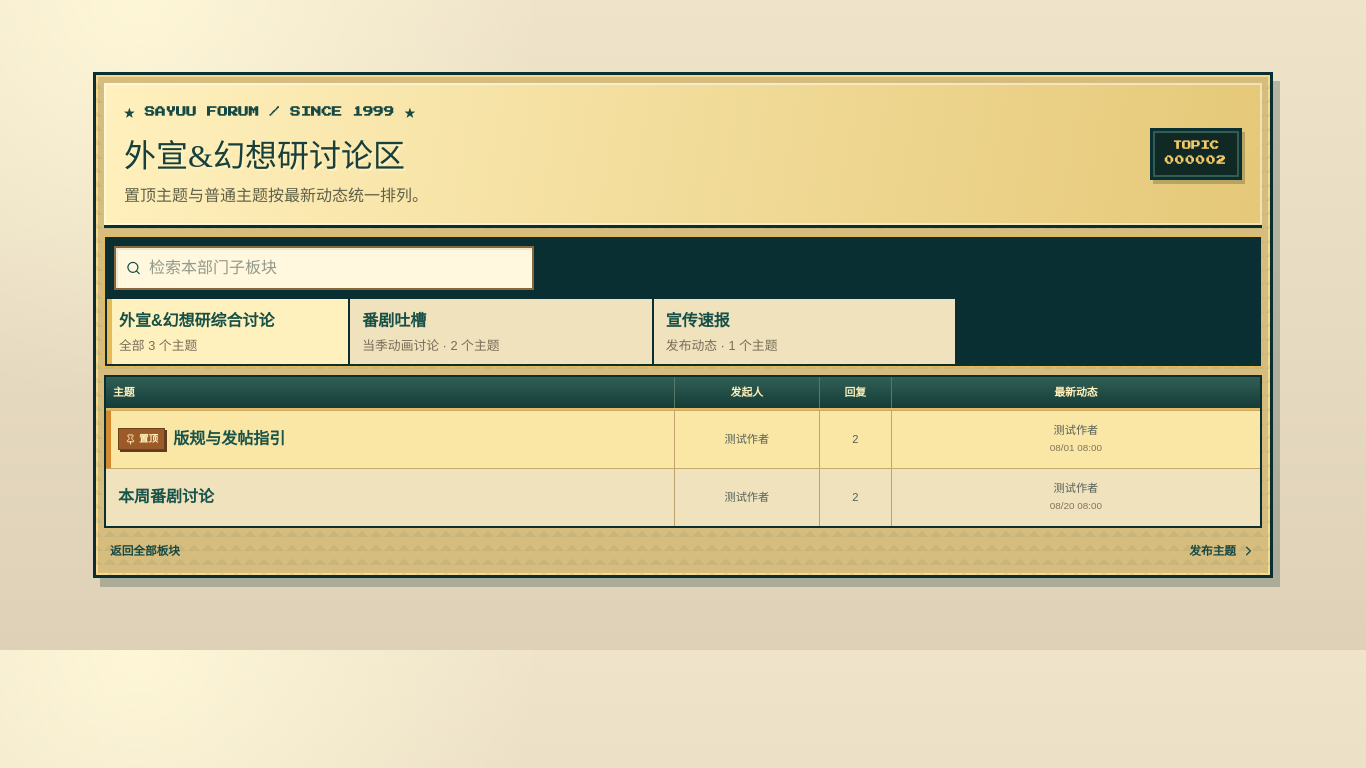
public forum layout › mixes pinned and ordinary topics and filters a department by child board
expect the link "版规与发帖指引" is shown: met, box left=173, top=427, right=285, bottom=451
expect the link "本周番剧讨论" is shown: met, box left=118, top=485, right=214, bottom=509
Type "番剧" into the field with placeholder "检索本部门子板块". click: (336, 268)
box: left=149, top=256, right=522, bottom=280
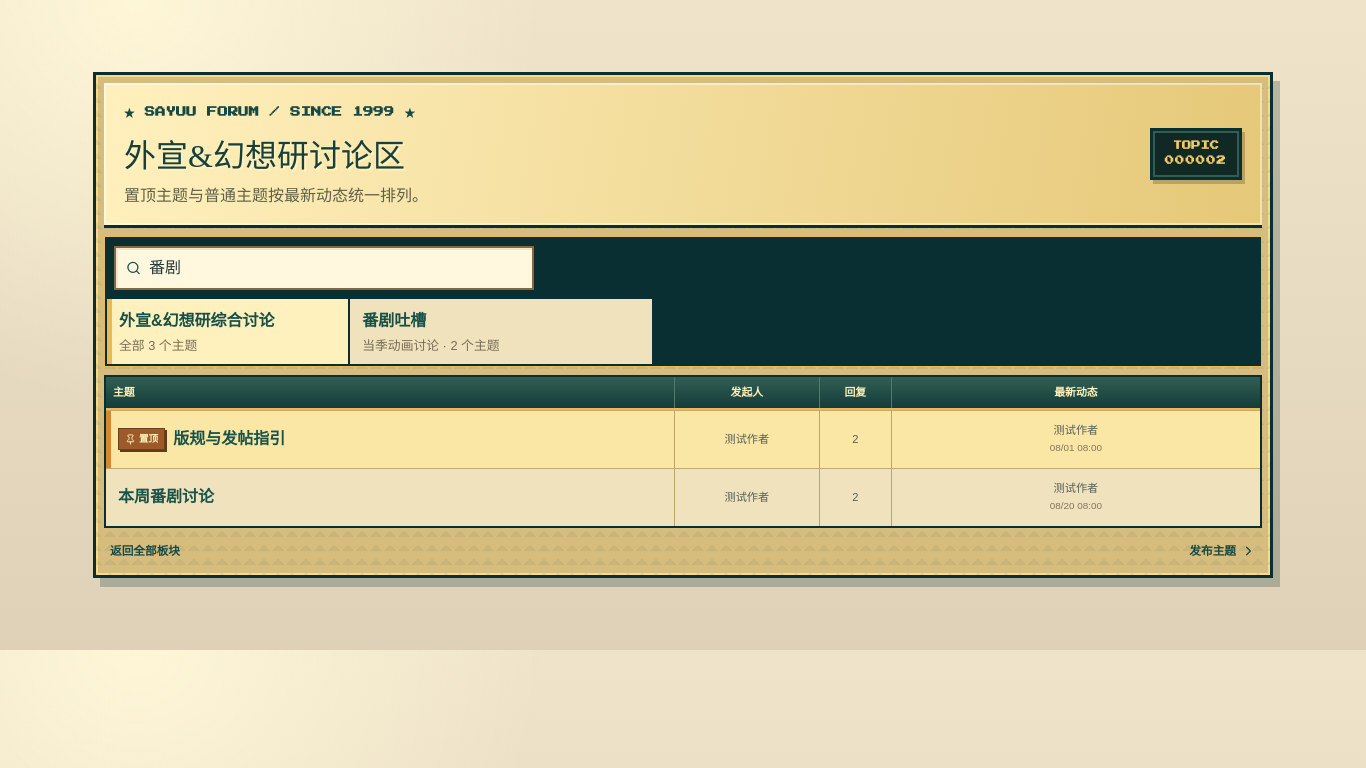
expect the button "宣传速报" is gone: met
Click the button "番剧吐槽 当季动画讨论 · 2 个主题". click: (394, 320)
box: left=350, top=299, right=652, bottom=364
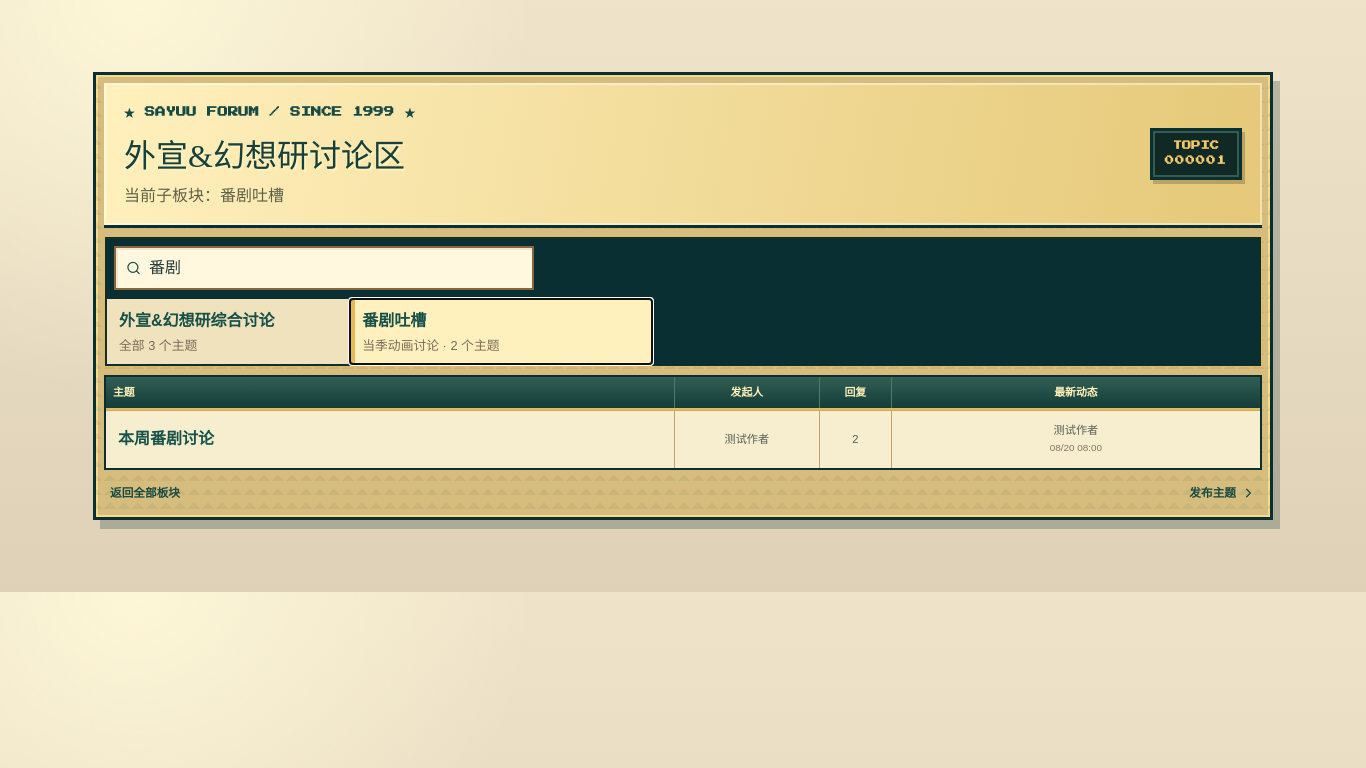
expect the text "当前子板块：番剧吐槽" is shown: met, box left=124, top=187, right=284, bottom=204
